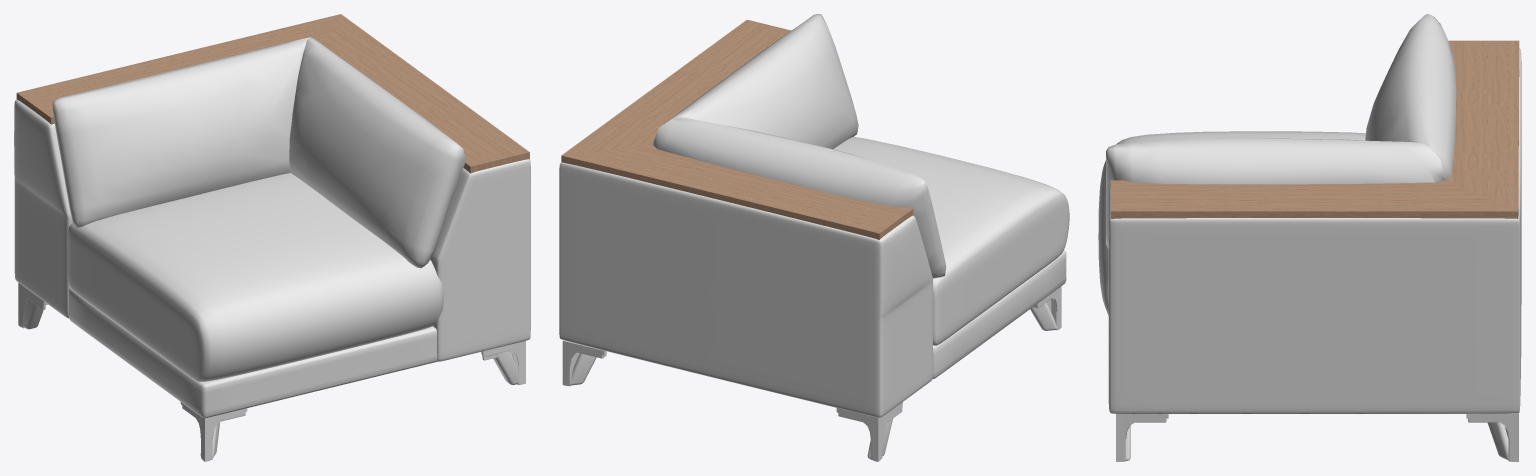
File: Melbourne_roh_P.glb
3 renders of one model, left to right at view 1: azimuth 30°, elevation 25°; view 2: azimuth 150°, elevation 25°; view 3: azimuth 270°, elevation 25°, orthographic. The views are drawn at different scales.
Parts seen in each view (by area): view 1: backrest, seat, body, plane, legs_N1, legs_N9, legs_N11; view 2: body, backrest, seat, plane, legs_N11, legs_N9, legs_N1; view 3: body, plane, backrest, seat, legs_N11, legs_N9.
Boxes of the visible parts, x1,y1,x2,y2 form: backrest: (52, 37, 465, 268); seat: (67, 173, 443, 381); body: (14, 99, 530, 417); plane: (16, 14, 529, 173); legs_N1: (21, 303, 525, 460); legs_N9: (23, 299, 518, 457); legs_N11: (18, 283, 525, 461); body: (559, 162, 1066, 417); backrest: (653, 14, 946, 278); seat: (833, 137, 1069, 345); plane: (561, 19, 913, 239); legs_N11: (562, 286, 1061, 461); legs_N9: (570, 302, 1057, 458); legs_N1: (564, 298, 1058, 460); body: (1108, 48, 1521, 413); plane: (1110, 40, 1519, 218); backrest: (1106, 14, 1456, 248); seat: (1098, 131, 1365, 315); legs_N11: (1116, 413, 1518, 461); legs_N9: (1125, 422, 1510, 460).
Bounding box in the file's own units: 1.01 × 0.754 × 1.03.
8 materials, 1 textured.
